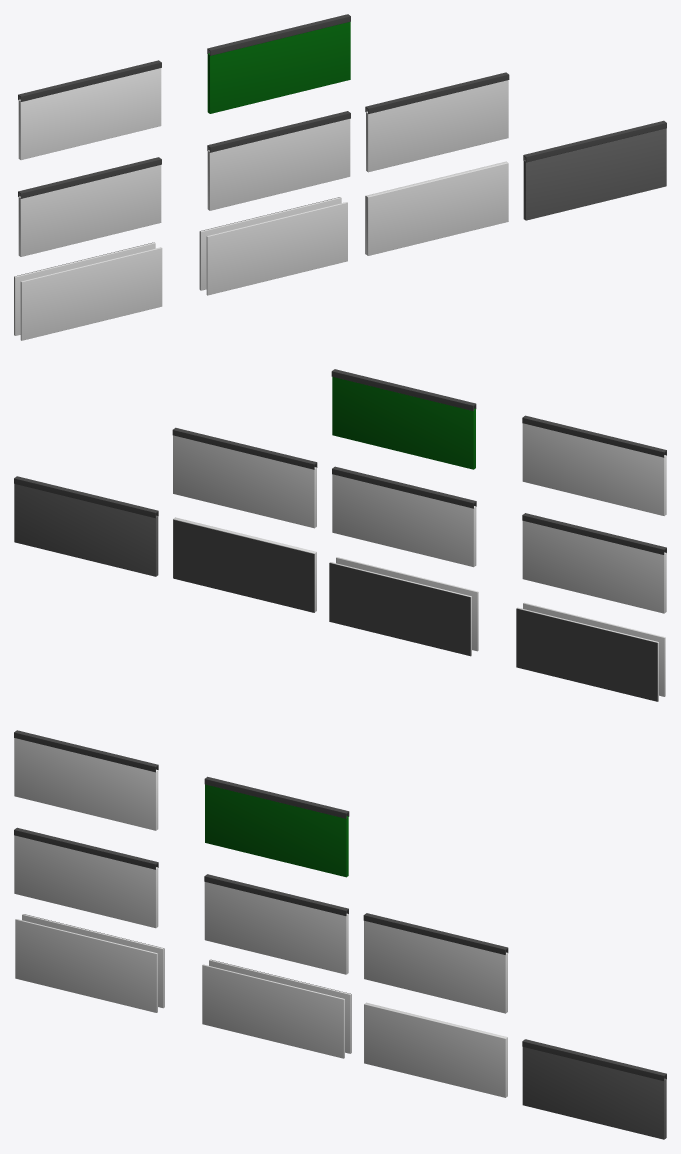
The model's file is exit.FBX.
3 views of the same model, one above another, from view 1: azimuth 30°, elevation 25°; view 2: azimuth 150°, elevation 25°; view 3: azimuth 330°, elevation 25° (orthographic).
Visible parts, largest first — view 1: ChamferBox002, ChamferBox006, ChamferBox003, ChamferBox010, ChamferBox008, ChamferBox009, ChamferBox011, ChamferBox005, ChamferBox001, ChamferBox004, ChamferBox007, Line243 (+5 smaller); view 2: ChamferBox005, ChamferBox008, ChamferBox009, ChamferBox010, ChamferBox011, ChamferBox001, Rectangle002, Rectangle003, Rectangle001, ChamferBox003, ChamferBox006, Line243 (+6 smaller); view 3: ChamferBox002, ChamferBox003, ChamferBox006, ChamferBox008, ChamferBox005, ChamferBox010, ChamferBox009, ChamferBox011, ChamferBox001, ChamferBox004, ChamferBox007, Line249 (+5 smaller).
Part boxes in pixels (left/top/right/bottom): ChamferBox002: left=366, top=161, right=508, bottom=255; ChamferBox006: left=20, top=247, right=162, bottom=340; ChamferBox003: left=206, top=202, right=347, bottom=295; ChamferBox010: left=523, top=128, right=666, bottom=220; ChamferBox008: left=18, top=165, right=161, bottom=256; ChamferBox009: left=18, top=68, right=161, bottom=159; ChamferBox011: left=207, top=22, right=350, bottom=113; ChamferBox005: left=207, top=119, right=350, bottom=210; ChamferBox001: left=366, top=80, right=508, bottom=172; ChamferBox004: left=200, top=197, right=341, bottom=290; ChamferBox007: left=14, top=242, right=155, bottom=335; Line243: left=365, top=72, right=509, bottom=113; ChamferBox005: left=332, top=474, right=476, bottom=567; ChamferBox008: left=522, top=521, right=666, bottom=613; ChamferBox009: left=522, top=423, right=666, bottom=515; ChamferBox010: left=14, top=484, right=158, bottom=576; ChamferBox011: left=332, top=377, right=475, bottom=469; ChamferBox001: left=173, top=435, right=316, bottom=528; Rectangle002: left=329, top=563, right=470, bottom=656; Rectangle003: left=516, top=608, right=657, bottom=701; Rectangle001: left=173, top=519, right=314, bottom=612; ChamferBox003: left=336, top=557, right=478, bottom=651; ChamferBox006: left=523, top=602, right=665, bottom=696; Line243: left=172, top=427, right=317, bottom=469; ChamferBox002: left=364, top=1002, right=507, bottom=1097; ChamferBox003: left=202, top=964, right=344, bottom=1058; ChamferBox006: left=15, top=919, right=157, bottom=1012; ChamferBox008: left=14, top=835, right=158, bottom=928; ChamferBox005: left=204, top=882, right=348, bottom=974; ChamferBox010: left=522, top=1047, right=666, bottom=1139; ChamferBox009: left=14, top=738, right=158, bottom=830; ChamferBox011: left=205, top=784, right=348, bottom=877; ChamferBox001: left=364, top=920, right=507, bottom=1013; ChamferBox004: left=209, top=959, right=351, bottom=1053; ChamferBox007: left=22, top=914, right=164, bottom=1008; Line249: left=204, top=776, right=349, bottom=818.
Size of the model in its own units: 161 by 58.78 by 3.56.
